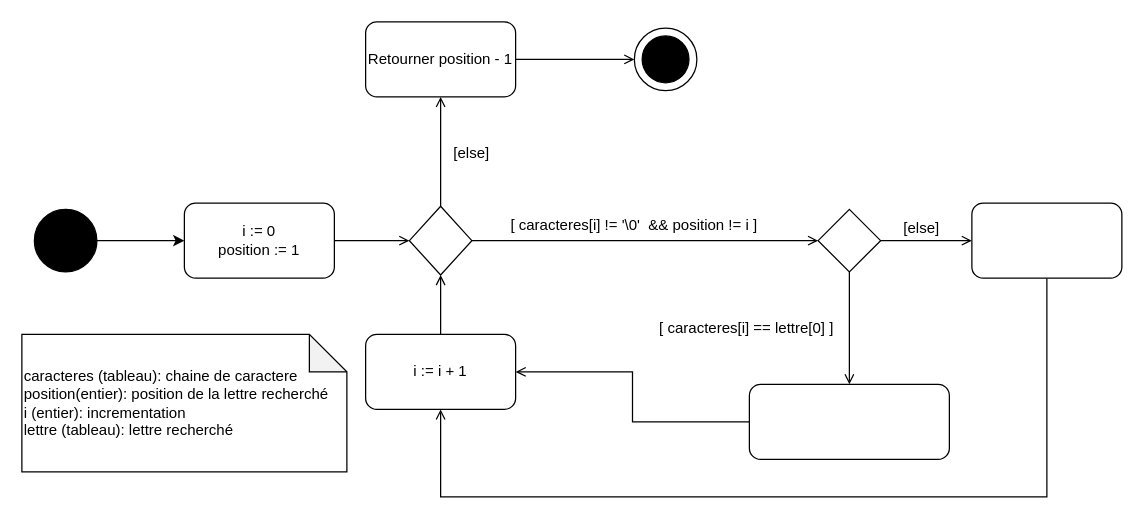
This 1144x529 diagram has some shape labels left out. Here are the shapes that lost their labels. From the top down, the box of each, then its label:
(971, 202, 1122, 278): position := 0
(748, 383, 949, 459): posisiton := i +1
